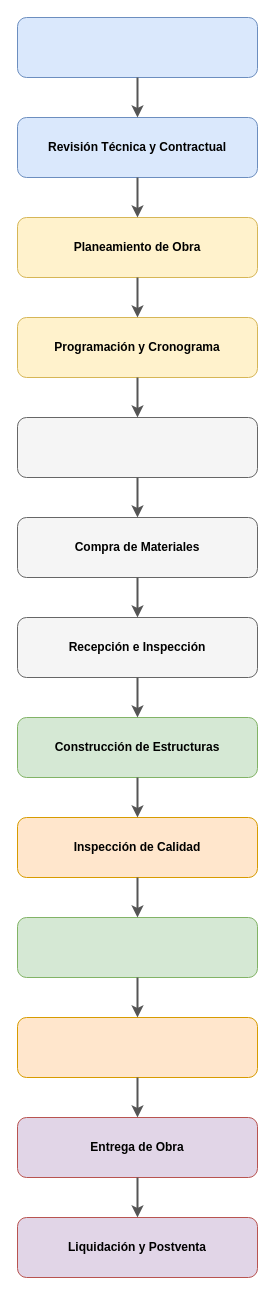
This 275x1295 diagram has some shape labels left out. Each missing label, with the centre of its shape:
"Arquitectura y Acabados" belongs at point 137,947.
"Homologación de Proveedores" belongs at point 137,447.
"Inspección Final" belongs at point 137,1047.
"Recepción del Expediente Técnico" belongs at point 137,47.
